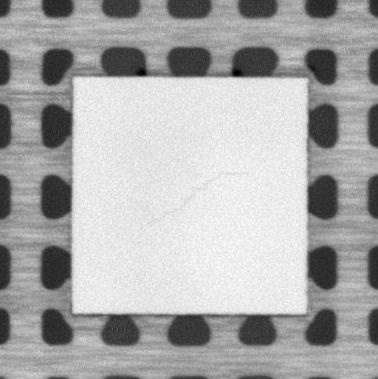DIE_CRACK: (146, 170, 244, 224)
